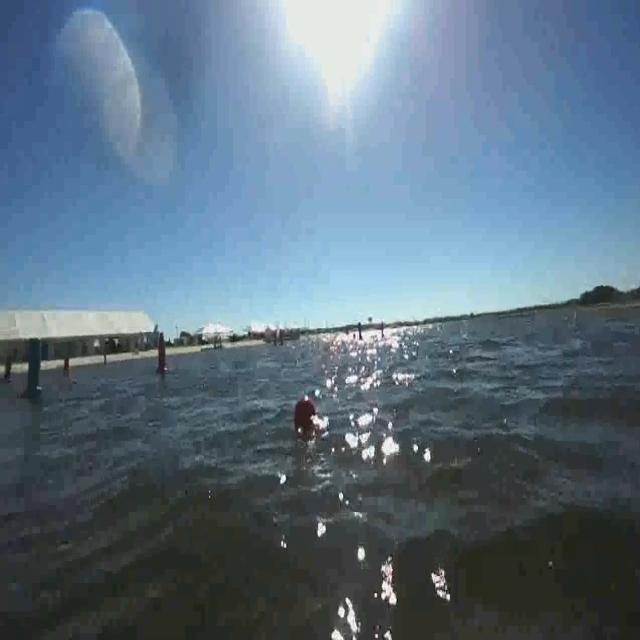green-column-buoy: (24, 337, 46, 400), (1, 344, 16, 383)
red-buoy: (293, 392, 320, 432)
red-column-buoy: (156, 333, 171, 375), (62, 355, 72, 379)
